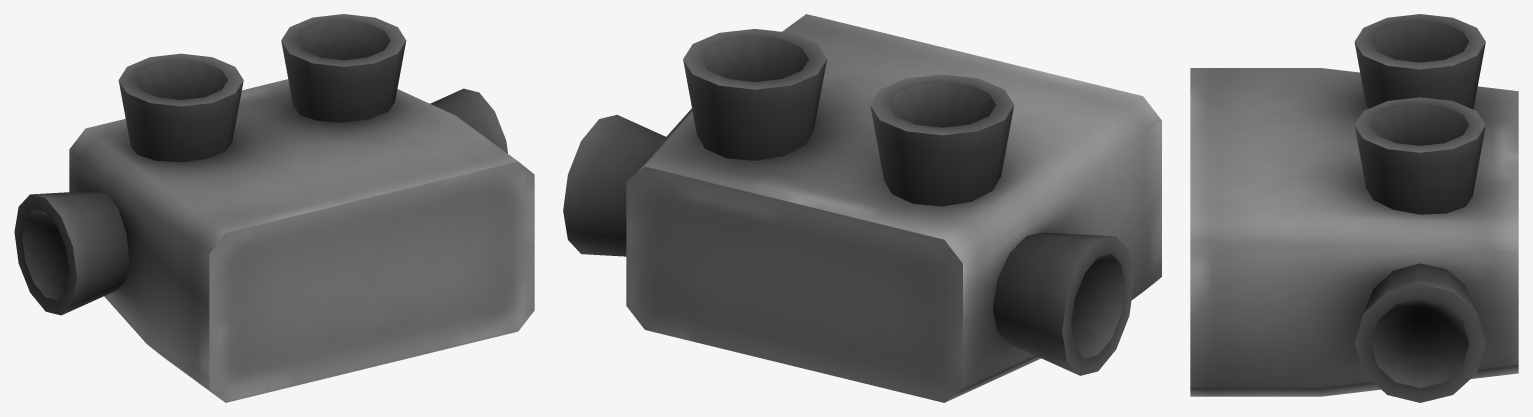
File: octans_moe_srf_3.obj
3 renders of one model, left to right at view 1: azimuth 30°, elevation 25°; view 2: azimuth 150°, elevation 25°; view 3: azimuth 270°, elevation 25°, orthographic. The views are drawn at different scales.
Visible parts, largest first — view 1: mesh; view 2: mesh; view 3: mesh.
Boxes of the visible parts, left/top/right/bottom form: mesh: left=14, top=14, right=534, bottom=402; mesh: left=563, top=14, right=1161, bottom=402; mesh: left=1190, top=14, right=1518, bottom=402.
Size of the model in its own units: 0.2 by 0.1 by 0.125.
1 material, 1 textured.
